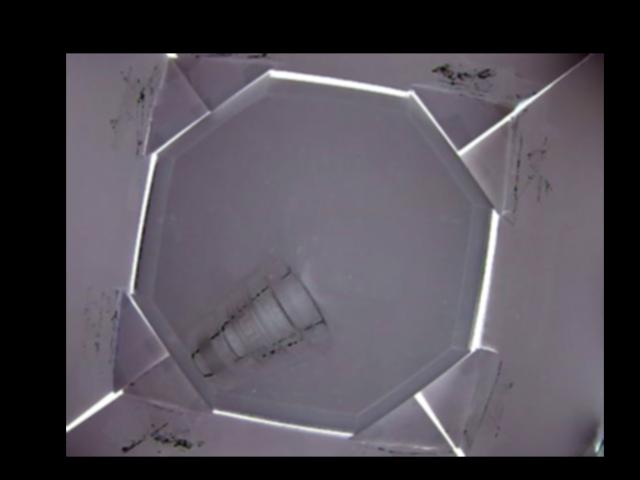Cup: (191, 249, 334, 381)
